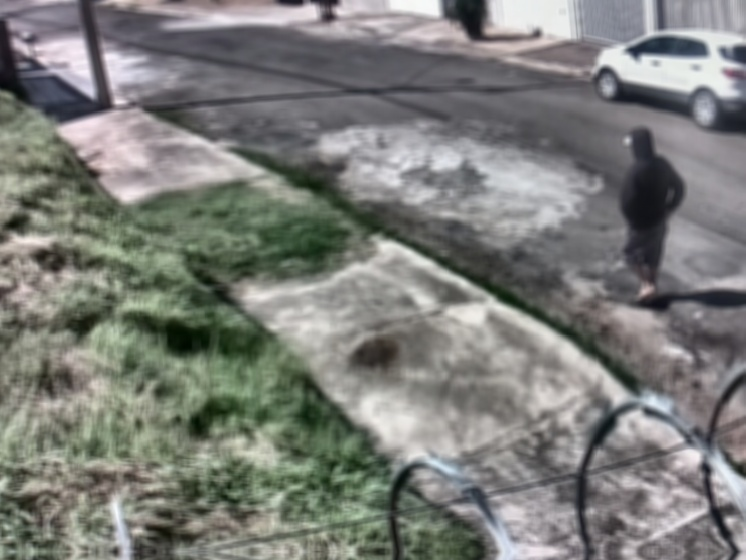person: (619, 127, 686, 309)
